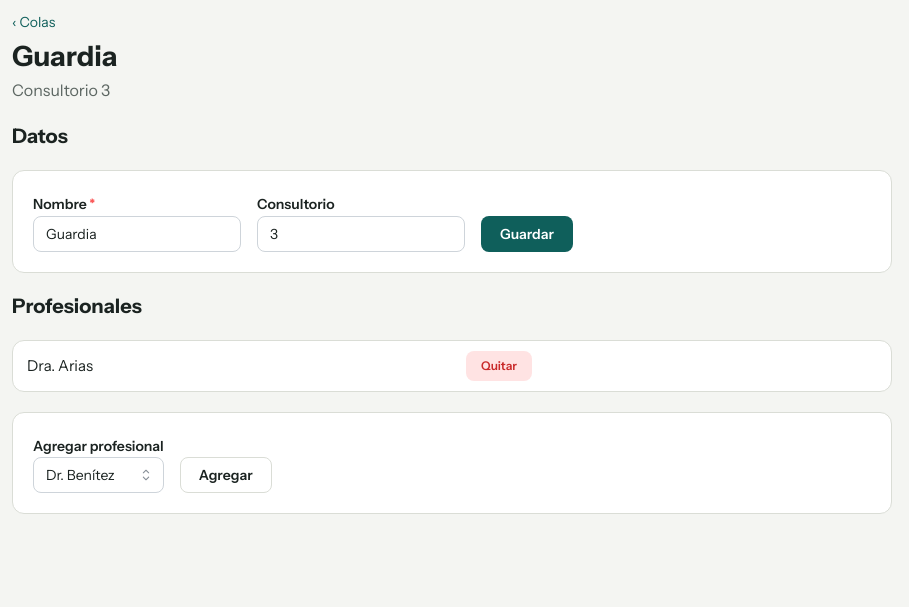
a queue › offers only who serves no queue, and adds and takes out its practitioners
Expected: the text "Consultorio 3" is shown, [12, 80, 110, 100]
Click the button "Agregar". click: (226, 476)
box: [180, 458, 272, 494]
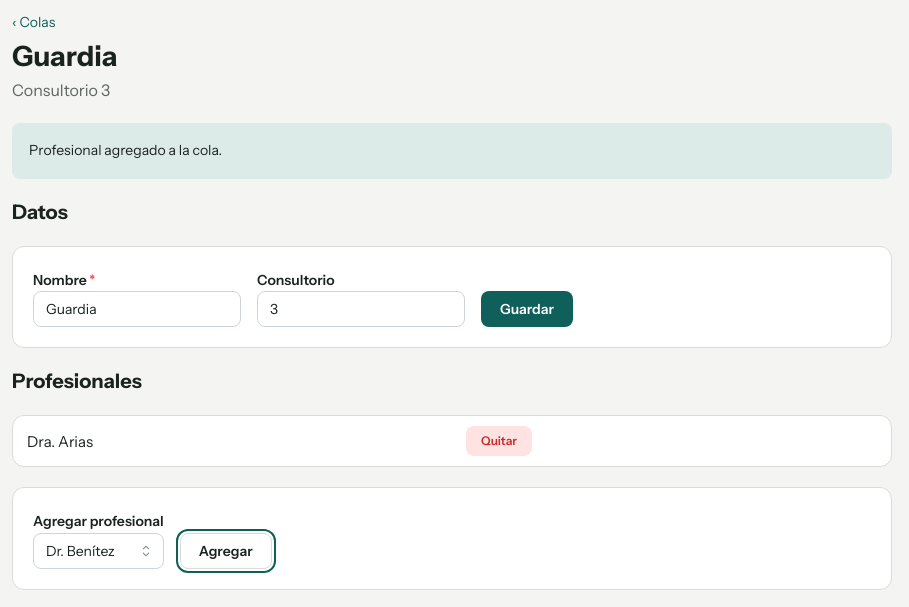
Expected: the message reads "Profesional agregado a la cola.", [29, 141, 222, 159]
Click the button with aria-label "Quitar a Dra. Arias". click: (499, 441)
box: [466, 426, 532, 456]
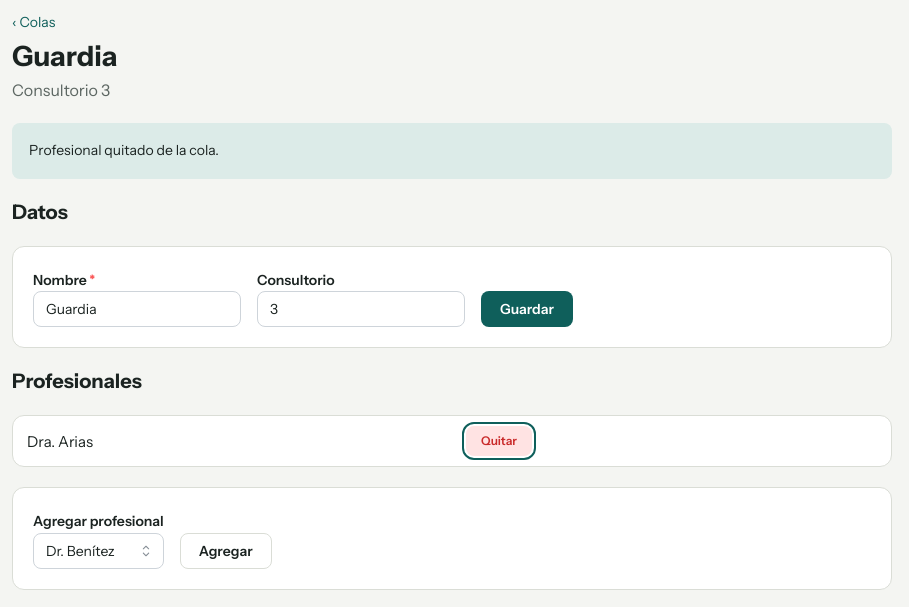
Expected: the text "Profesional quitado de la cola." is shown, [29, 141, 219, 159]
